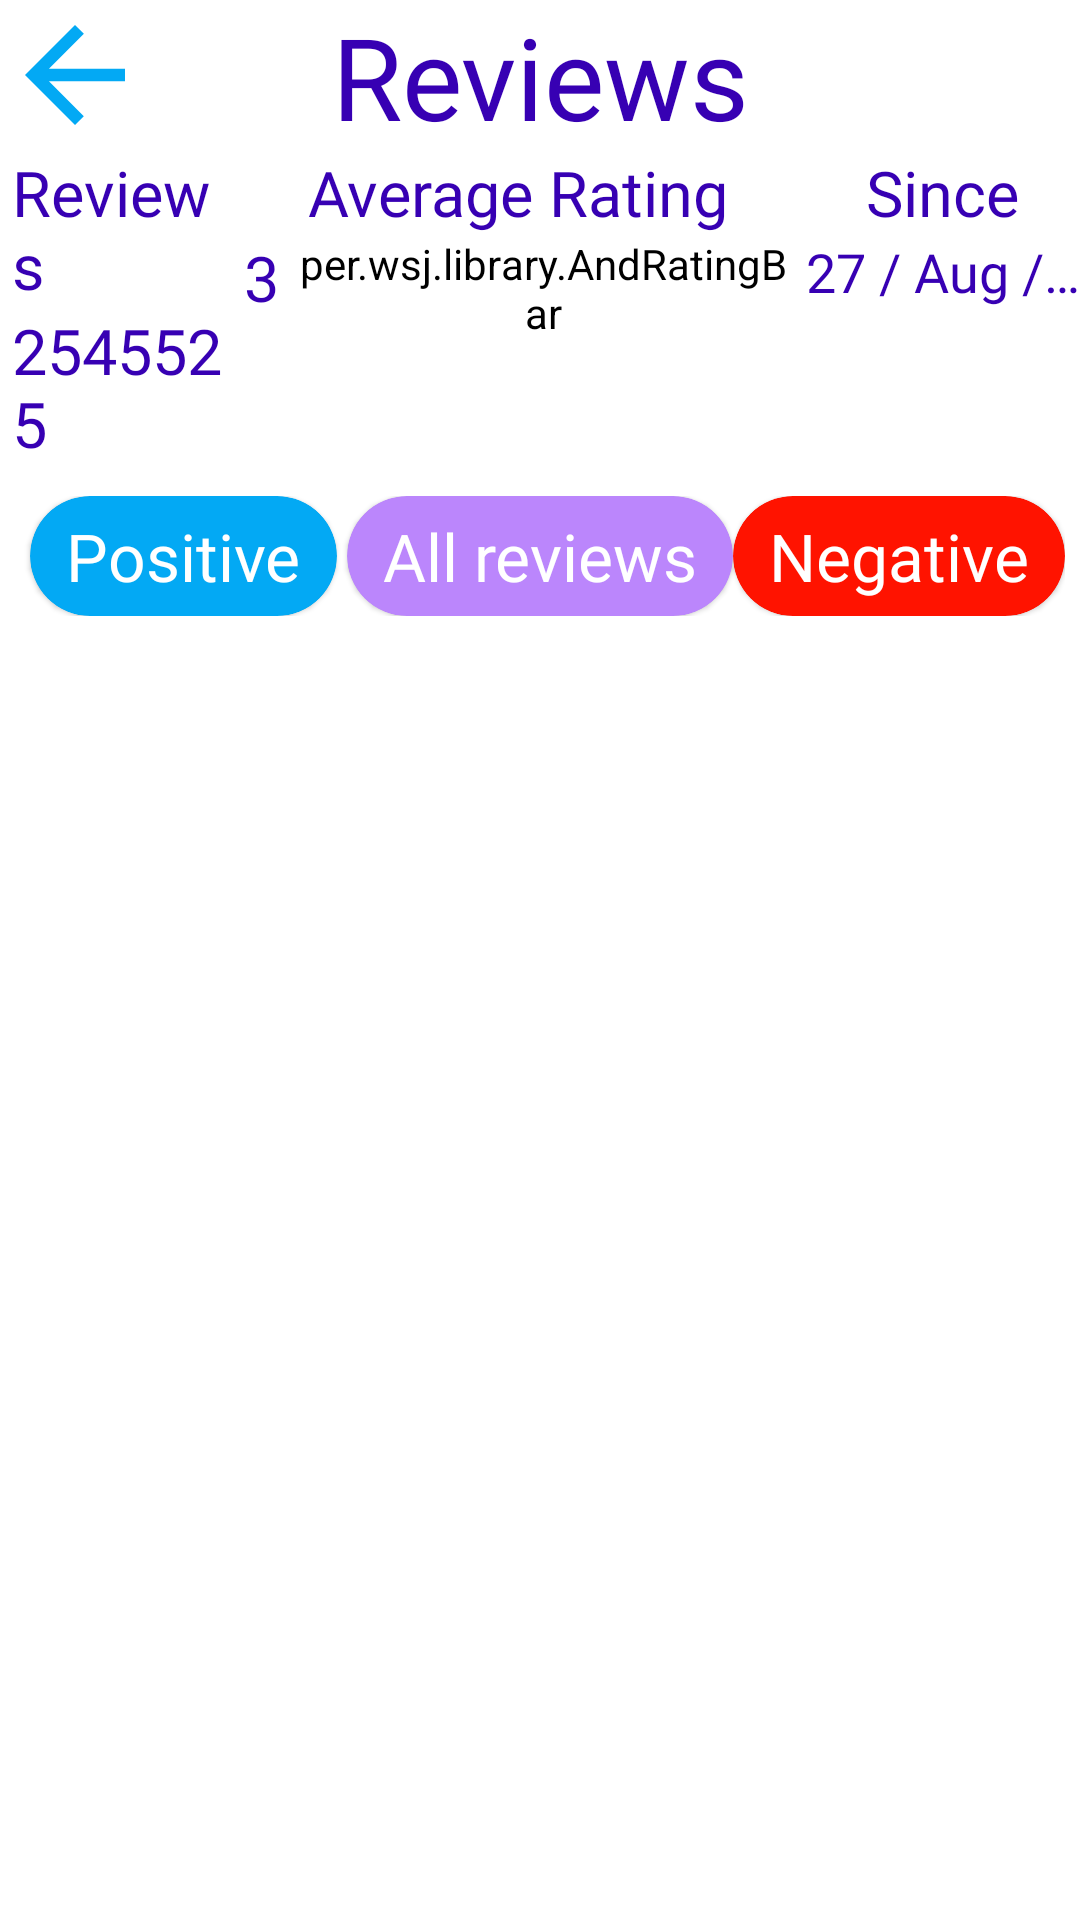

Screen size 1080px×1920px. Icon name, then its box in pixels as (x1, y1, x2, y2):
arrow back: (25, 25, 125, 125)
